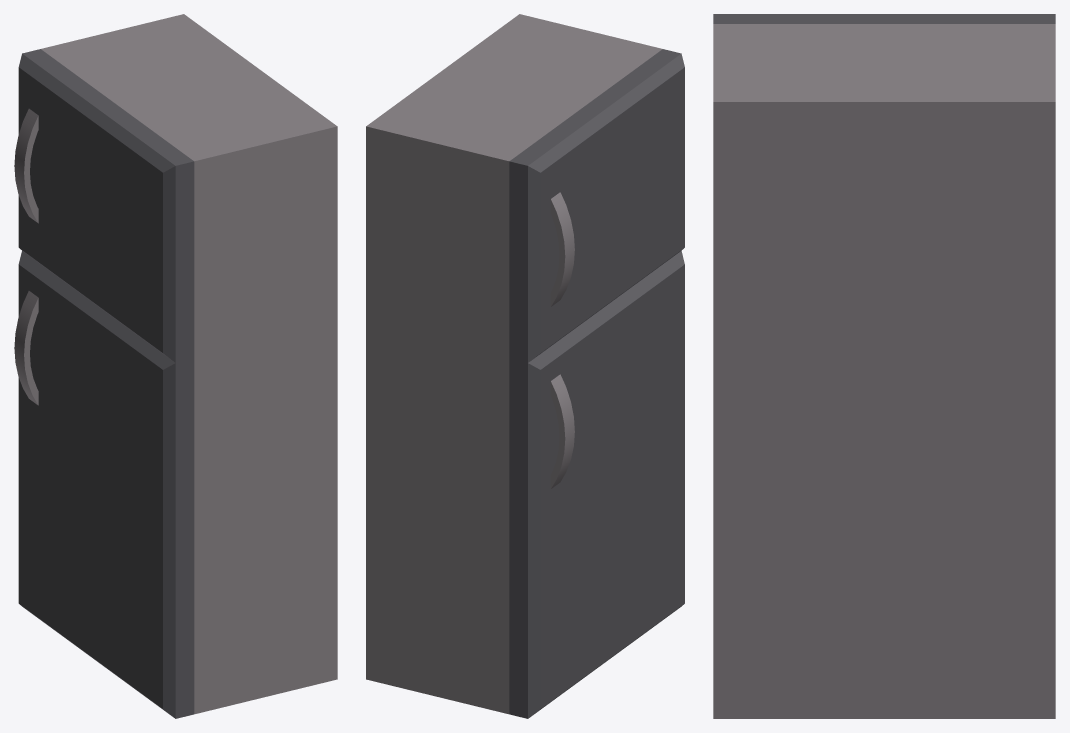
Rendered from freezer_close.fbx.
3 renders of one model, left to right at view 1: azimuth 30°, elevation 25°; view 2: azimuth 150°, elevation 25°; view 3: azimuth 270°, elevation 25°, orthographic. The views are drawn at different scales.
Visible parts, largest first — view 1: Body, Fridge_Door, Freezer_Door, Fridge_Handle, Freezer_Handle; view 2: Body, Fridge_Door, Freezer_Door, Fridge_Handle, Freezer_Handle; view 3: Body, Freezer_Door.
Part boxes in pixels (x1,y1,x2,y2): Body: (41, 14, 337, 714); Fridge_Door: (18, 251, 194, 718); Freezer_Door: (18, 49, 194, 362); Fridge_Handle: (14, 291, 38, 405); Freezer_Handle: (14, 108, 38, 223); Body: (366, 14, 662, 714); Fridge_Door: (509, 251, 684, 718); Freezer_Door: (509, 49, 684, 362); Fridge_Handle: (550, 374, 574, 488); Freezer_Handle: (550, 192, 574, 306); Body: (713, 24, 1055, 718); Freezer_Door: (713, 14, 1055, 23).
Bounding box in the file's own units: 0.015 × 0.0431 × 0.0217.
1 material, 1 textured.
